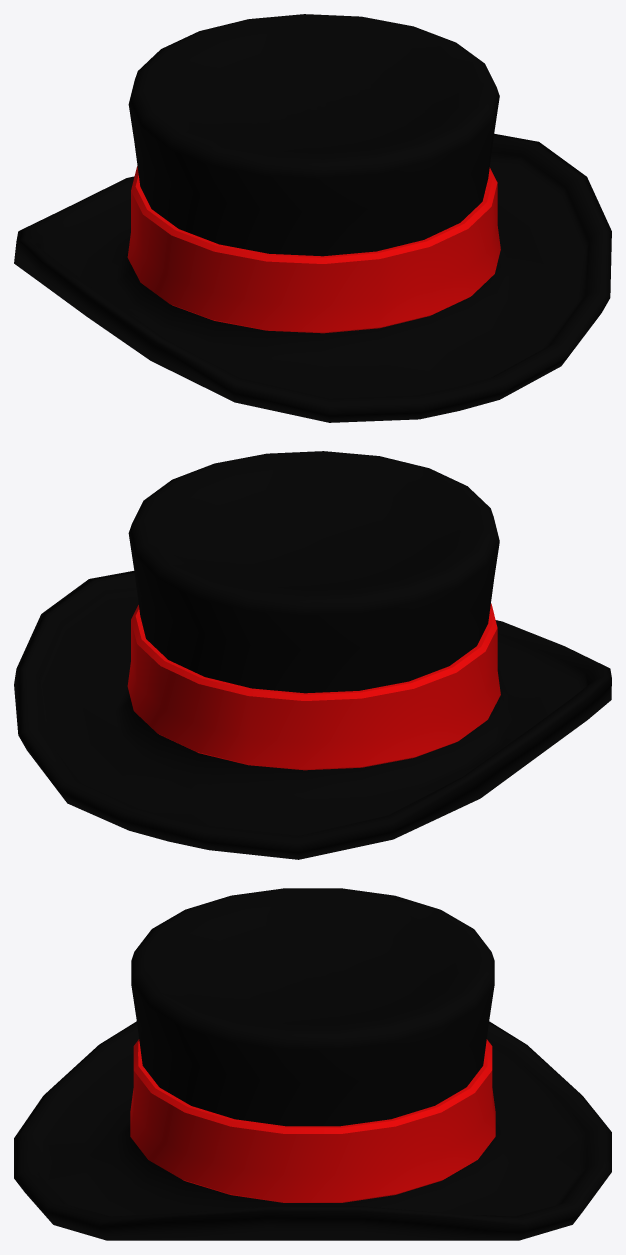
The model's file is objTopHat.fbx.
3 renders of one model, top to bottom at view 1: azimuth 30°, elevation 25°; view 2: azimuth 150°, elevation 25°; view 3: azimuth 270°, elevation 25°, orthographic.
Parts seen in each view (by area): view 1: objTopHat; view 2: objTopHat; view 3: objTopHat.
Boxes of the visible parts, box(x1,y1,x2,y2) form: objTopHat: box(14, 14, 611, 422); objTopHat: box(14, 451, 611, 859); objTopHat: box(14, 888, 611, 1240).
Bounding box in the file's own units: 1.11 × 0.4591 × 1.16.
